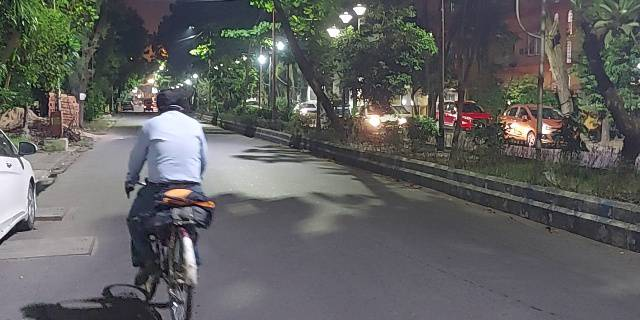Cycle: (122, 87, 209, 320)
